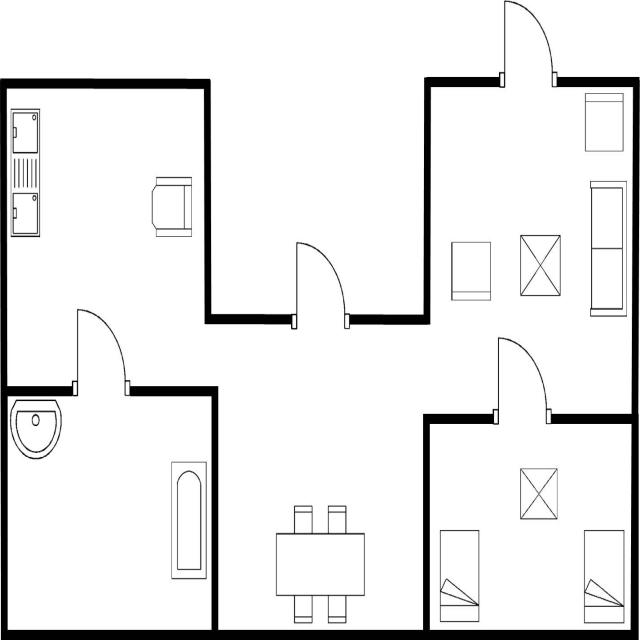armchair: (147, 173, 194, 240)
bed: (580, 525, 627, 626), (437, 525, 483, 625)
coffee_table: (517, 230, 563, 300), (516, 463, 560, 523)
dining_table: (274, 502, 368, 626)
large_sofa: (586, 176, 629, 320)
small_sink: (8, 396, 63, 461)
small_sofa: (448, 236, 493, 304), (581, 90, 625, 156)
tub: (166, 457, 208, 583)
twin_sink: (8, 105, 41, 241)
